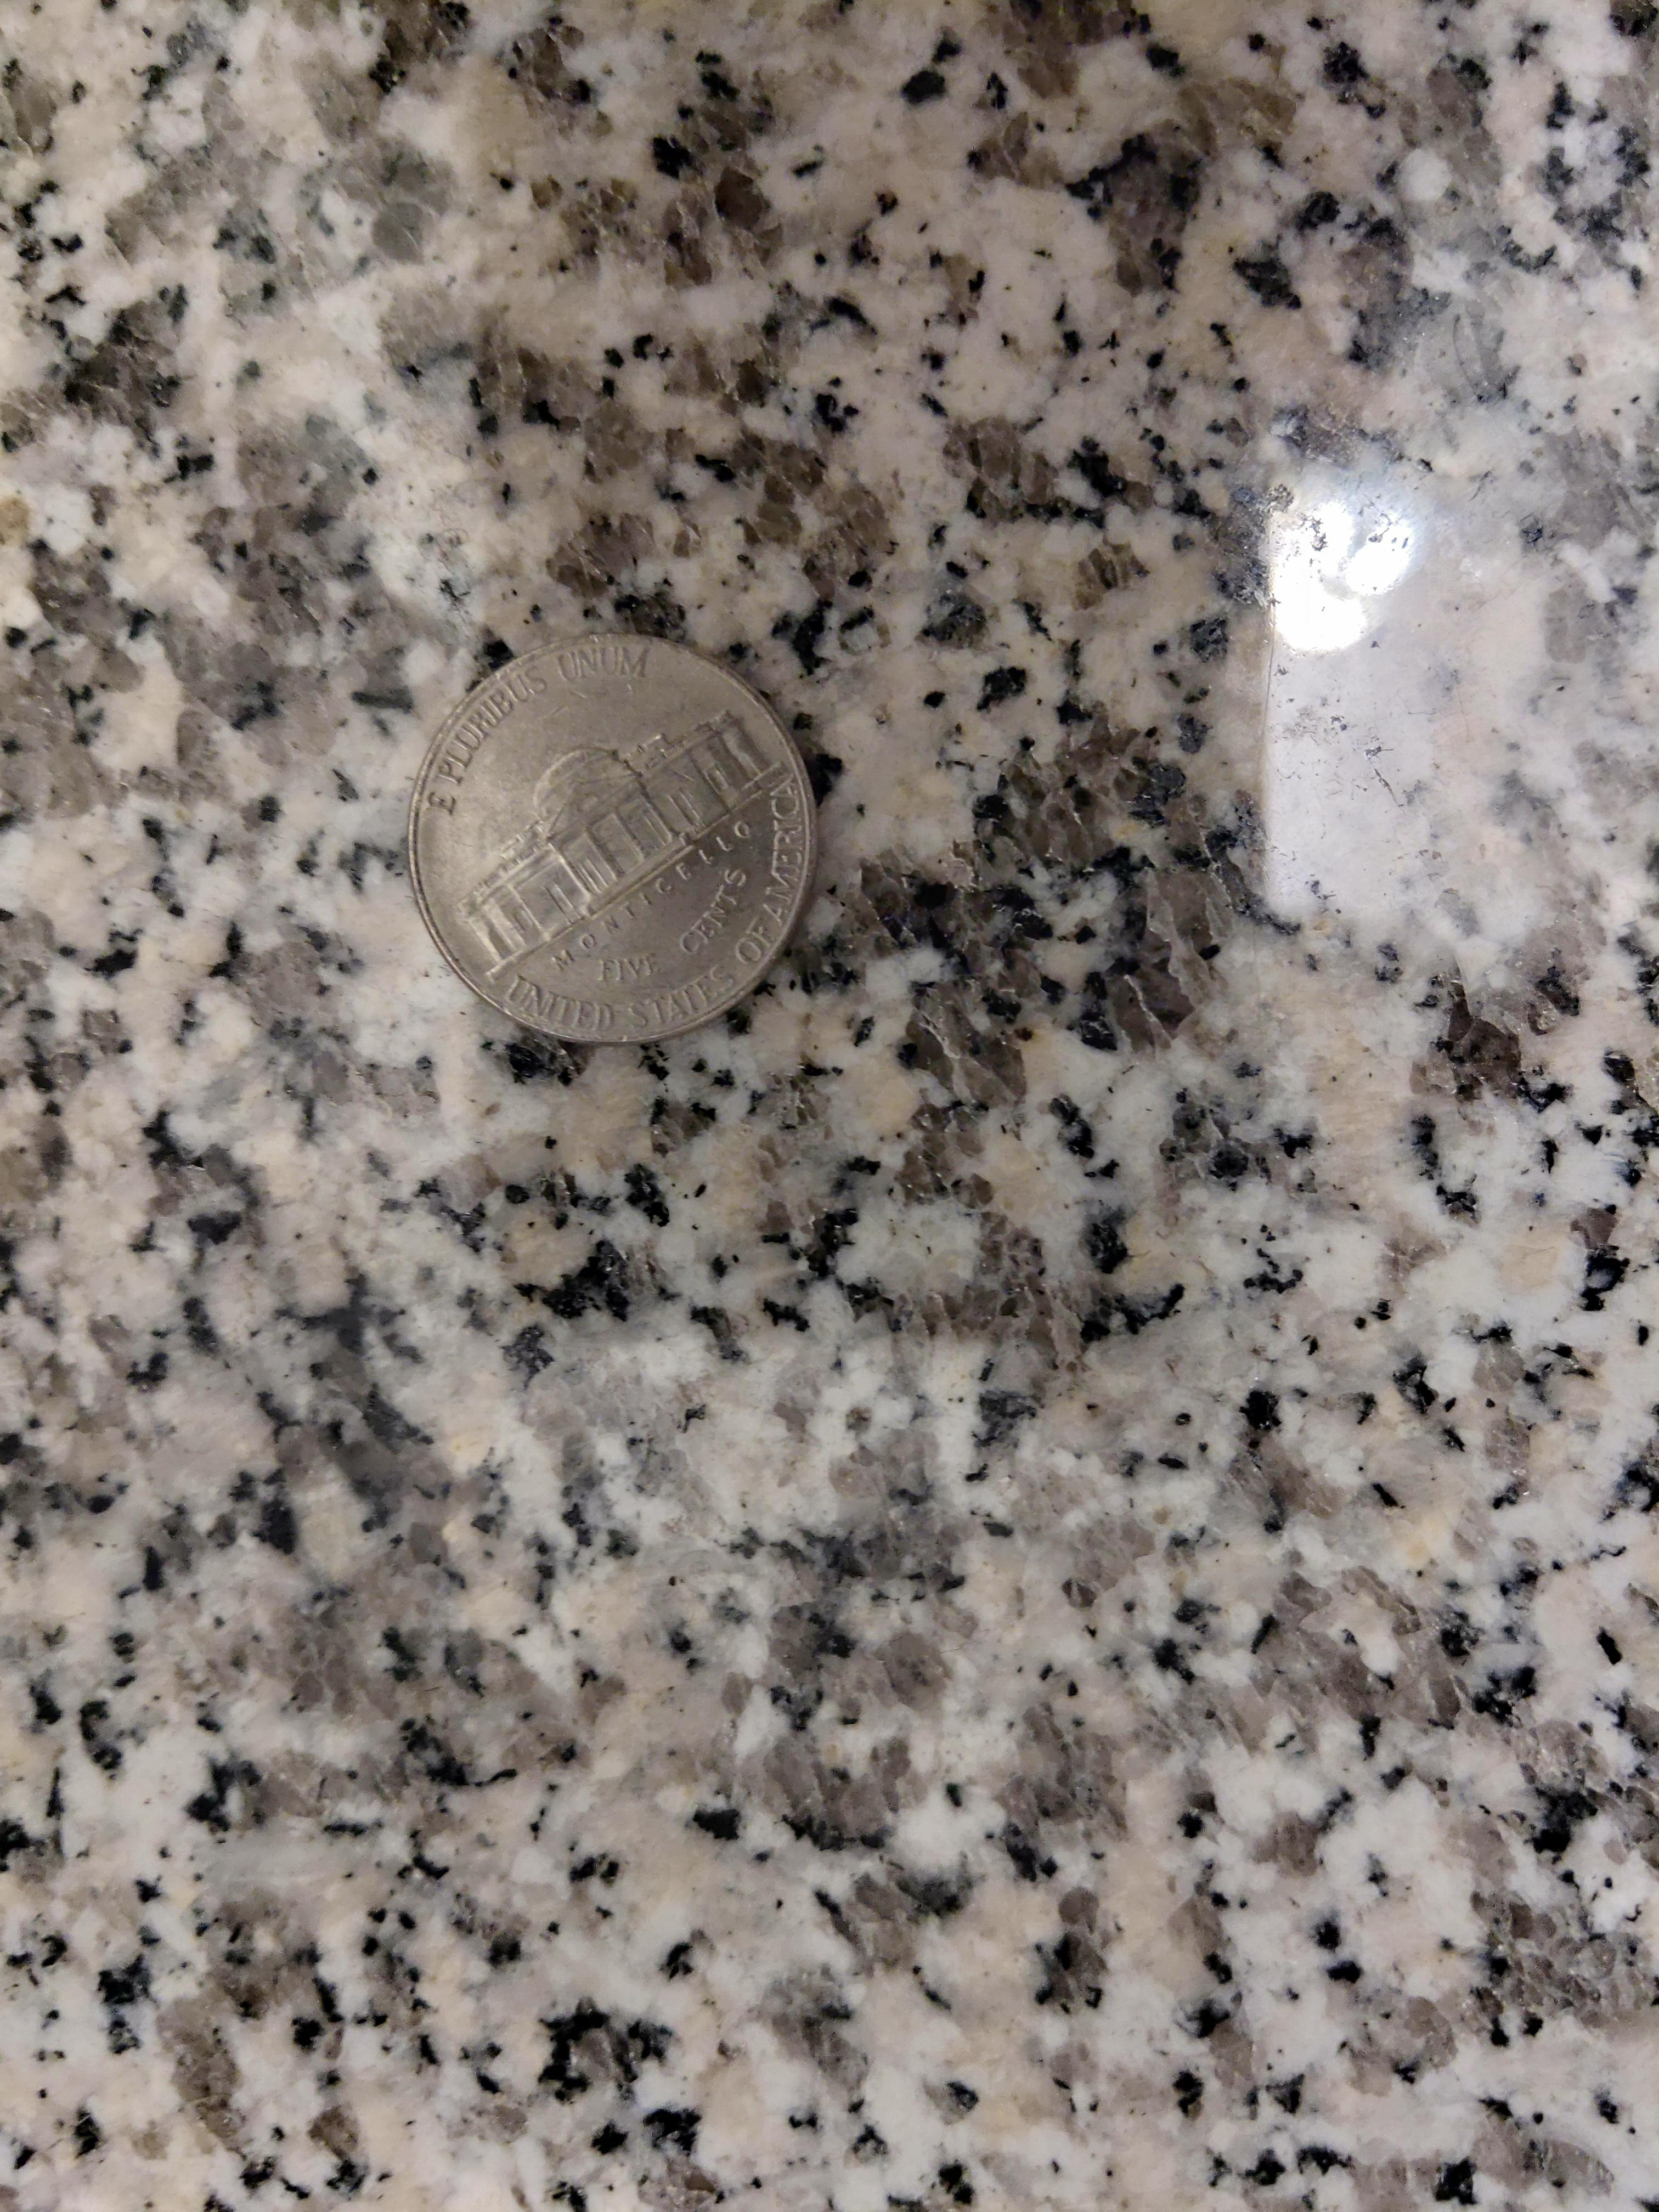Nickel: (406, 629, 821, 1049)
